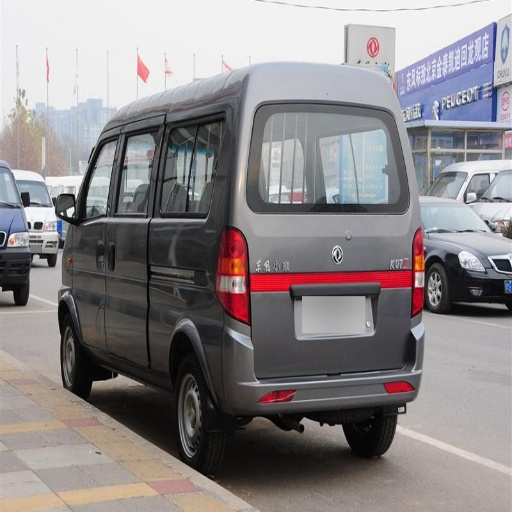back_bumper: (212, 312, 423, 415)
back_left_light: (213, 230, 249, 323)
back_right_door: (77, 246, 103, 342)
trunk: (229, 203, 415, 375), (122, 221, 213, 369)
